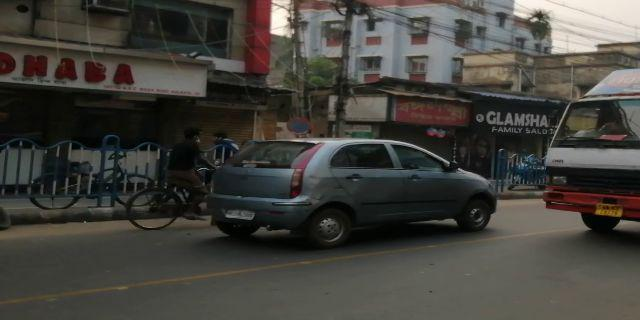Car: (220, 134, 496, 243)
